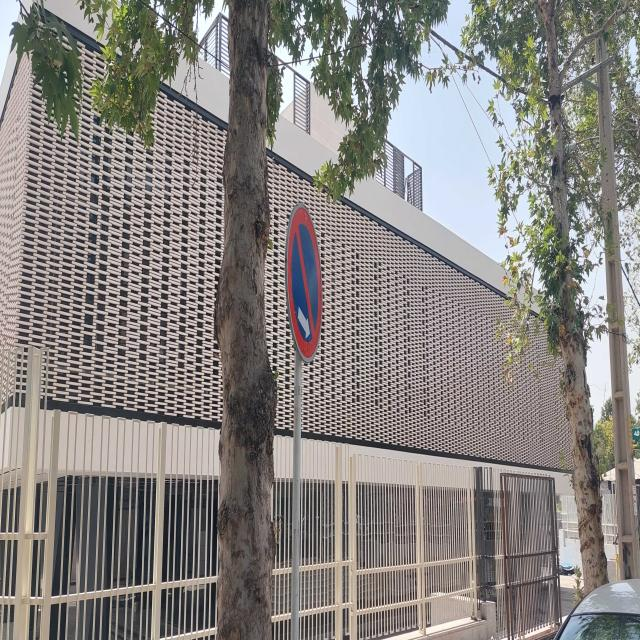forb_stopping: (283, 198, 323, 365)
